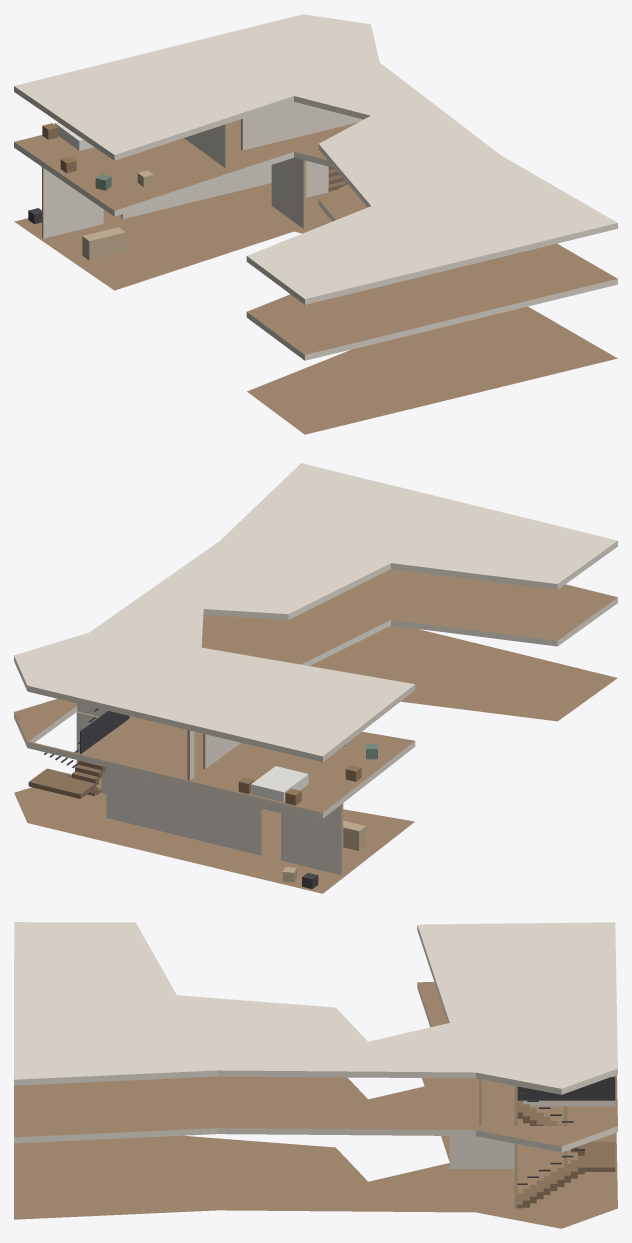
The model's file is interior.glb.
The picture shows the model from 3 angles, top to bottom: view 1: azimuth 30°, elevation 25°; view 2: azimuth 150°, elevation 25°; view 3: azimuth 270°, elevation 25°; orthographic projection. The views are drawn at different scales.
Parts seen in each view (by area): view 1: slabs, partitions, coarse-s1, coarse-s0; view 2: slabs, partitions, stair, coarse-s1, coarse-s0; view 3: slabs, stair, partitions.
Part boxes in pixels (left/top/right/bottom): slabs: left=14, top=14, right=617, bottom=434; partitions: left=42, top=102, right=362, bottom=238; coarse-s1: left=42, top=122, right=153, bottom=190; coarse-s0: left=28, top=208, right=125, bottom=260; slabs: left=14, top=463, right=617, bottom=893; partitions: left=76, top=703, right=343, bottom=875; stair: left=28, top=708, right=129, bottom=798; coarse-s1: left=238, top=740, right=377, bottom=805; coarse-s0: left=282, top=820, right=366, bottom=889; slabs: left=14, top=922, right=617, bottom=1228; stair: left=516, top=1077, right=615, bottom=1208; partitions: left=449, top=1079, right=567, bottom=1208.
Size of the model in its own units: 15.51 by 6.09 by 23.74.
